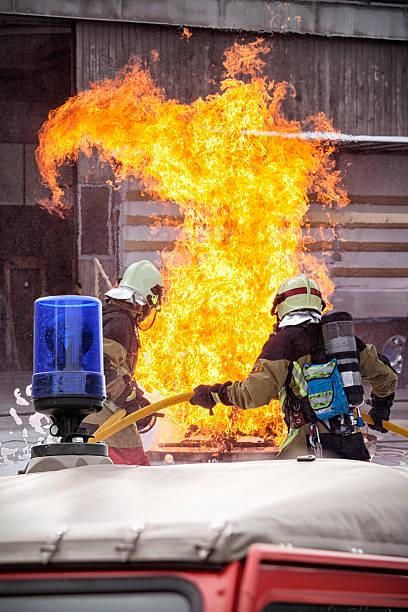Fire: (95, 18, 340, 439)
